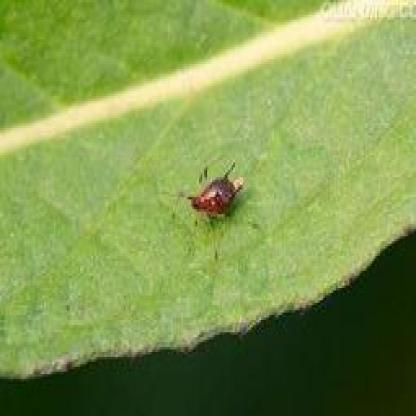aphid: (177, 160, 249, 230)
